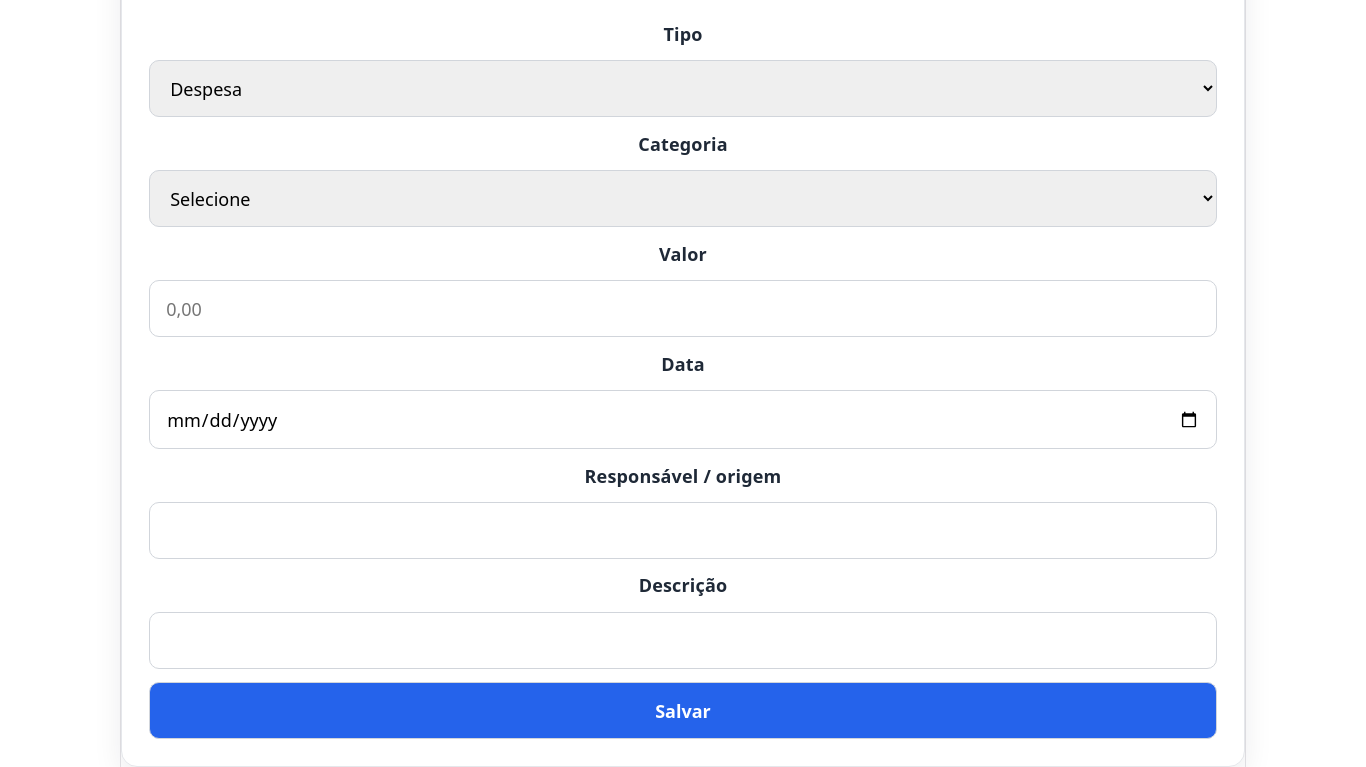
Test: TransactionForm › validates required fields before submit
The width and height of the screenshot is (1366, 767).
(page scrolled)
Click the button "Salvar". click: (683, 711)
box: [149,682,1217,739]
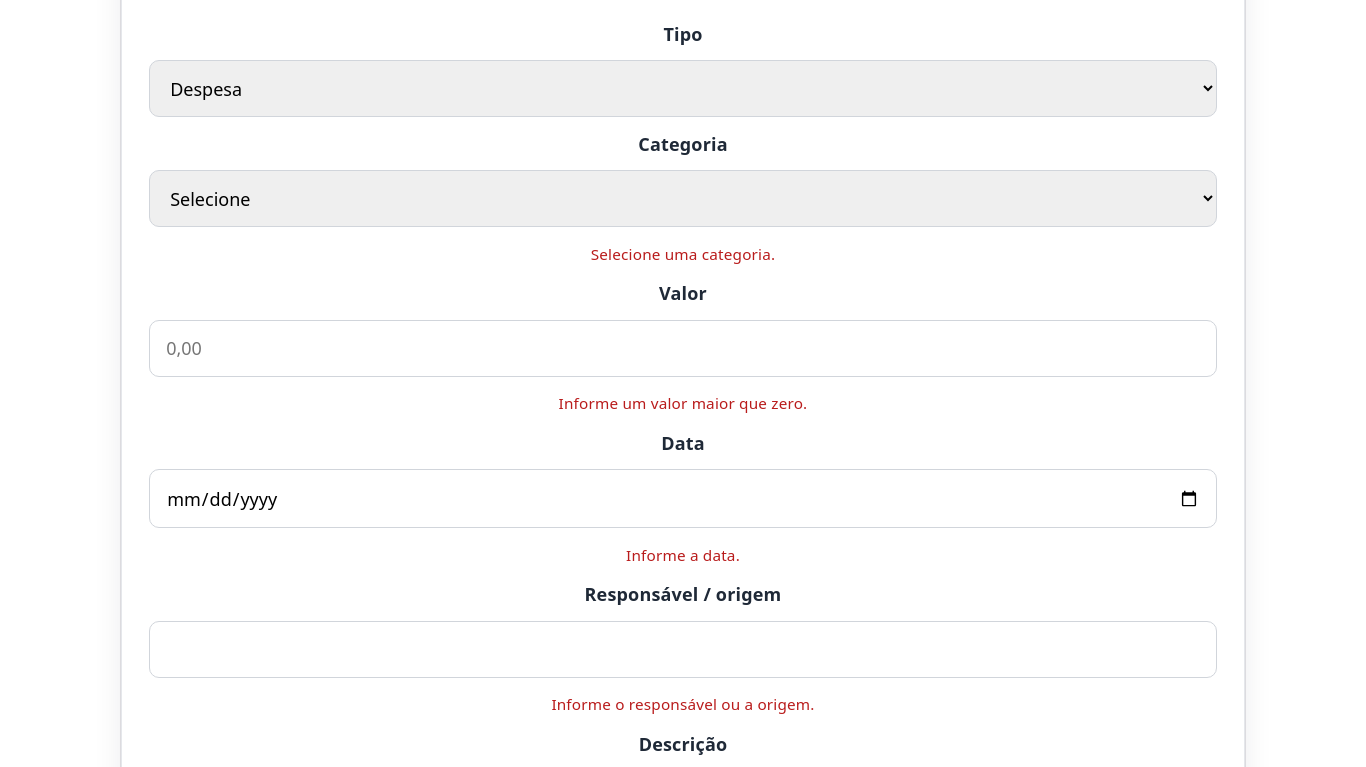
Now the text "Selecione uma categoria." is shown, box [591,244,775,264]
Now the text "Informe um valor maior que zero." is shown, box [559,393,807,413]
Now the text "Informe a data." is shown, box [626,545,740,565]
